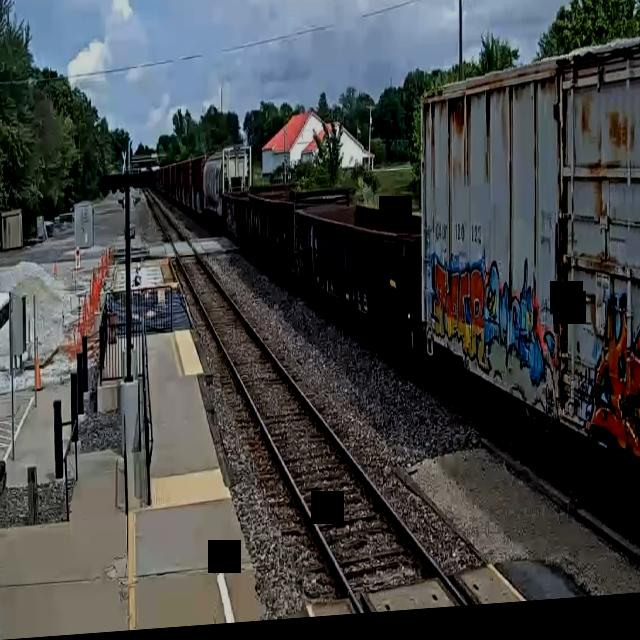boxcar: (409, 19, 640, 585)
gondola: (290, 196, 423, 371), (245, 182, 350, 288)
